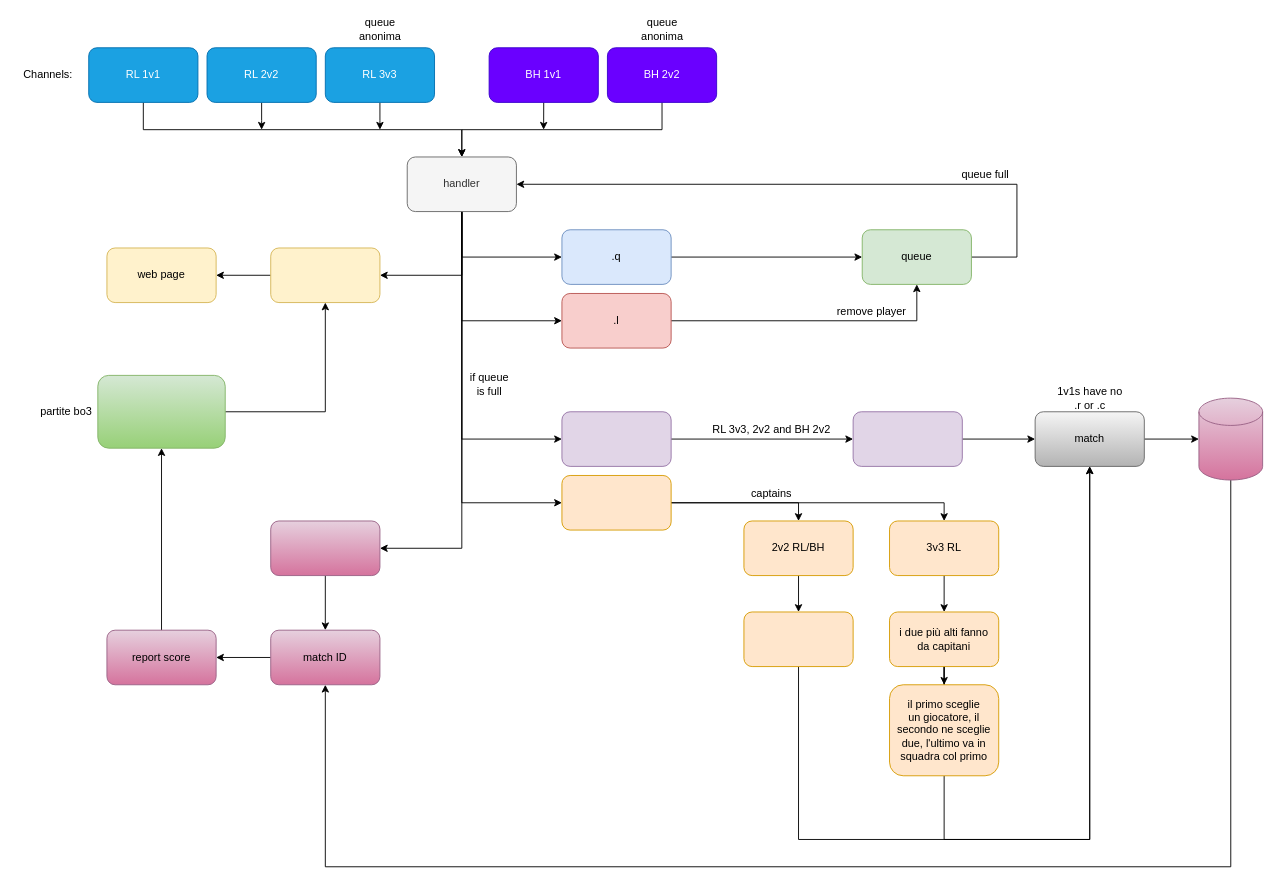
Image size: 1279x890. Some labels were removed from this diagram. The box of each missing label's shape, as (x1, y1, x2, y2) in pixels:
.c: (561, 475, 671, 530)
.leaderboard: (270, 247, 380, 303)
.r: (561, 411, 671, 466)
.report: (270, 520, 380, 576)
2-0 vince 5 punti 0-2 perde 4 punti 2-1 vince 3 punti 1-2 perde 2 punti: (97, 374, 225, 448)
più alto con più basso CONTRO i due intermedi: (743, 611, 853, 667)
random: (852, 411, 962, 466)
unreported matches: (1198, 397, 1263, 480)
